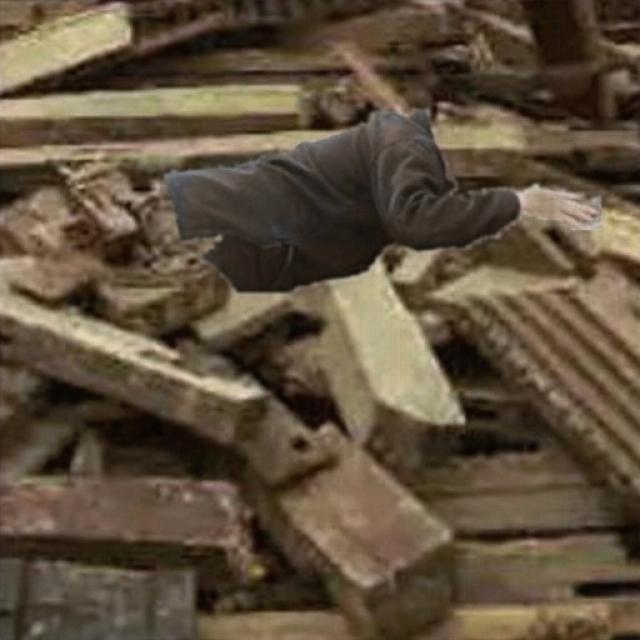Person in Rubble: (164, 108, 600, 292)
